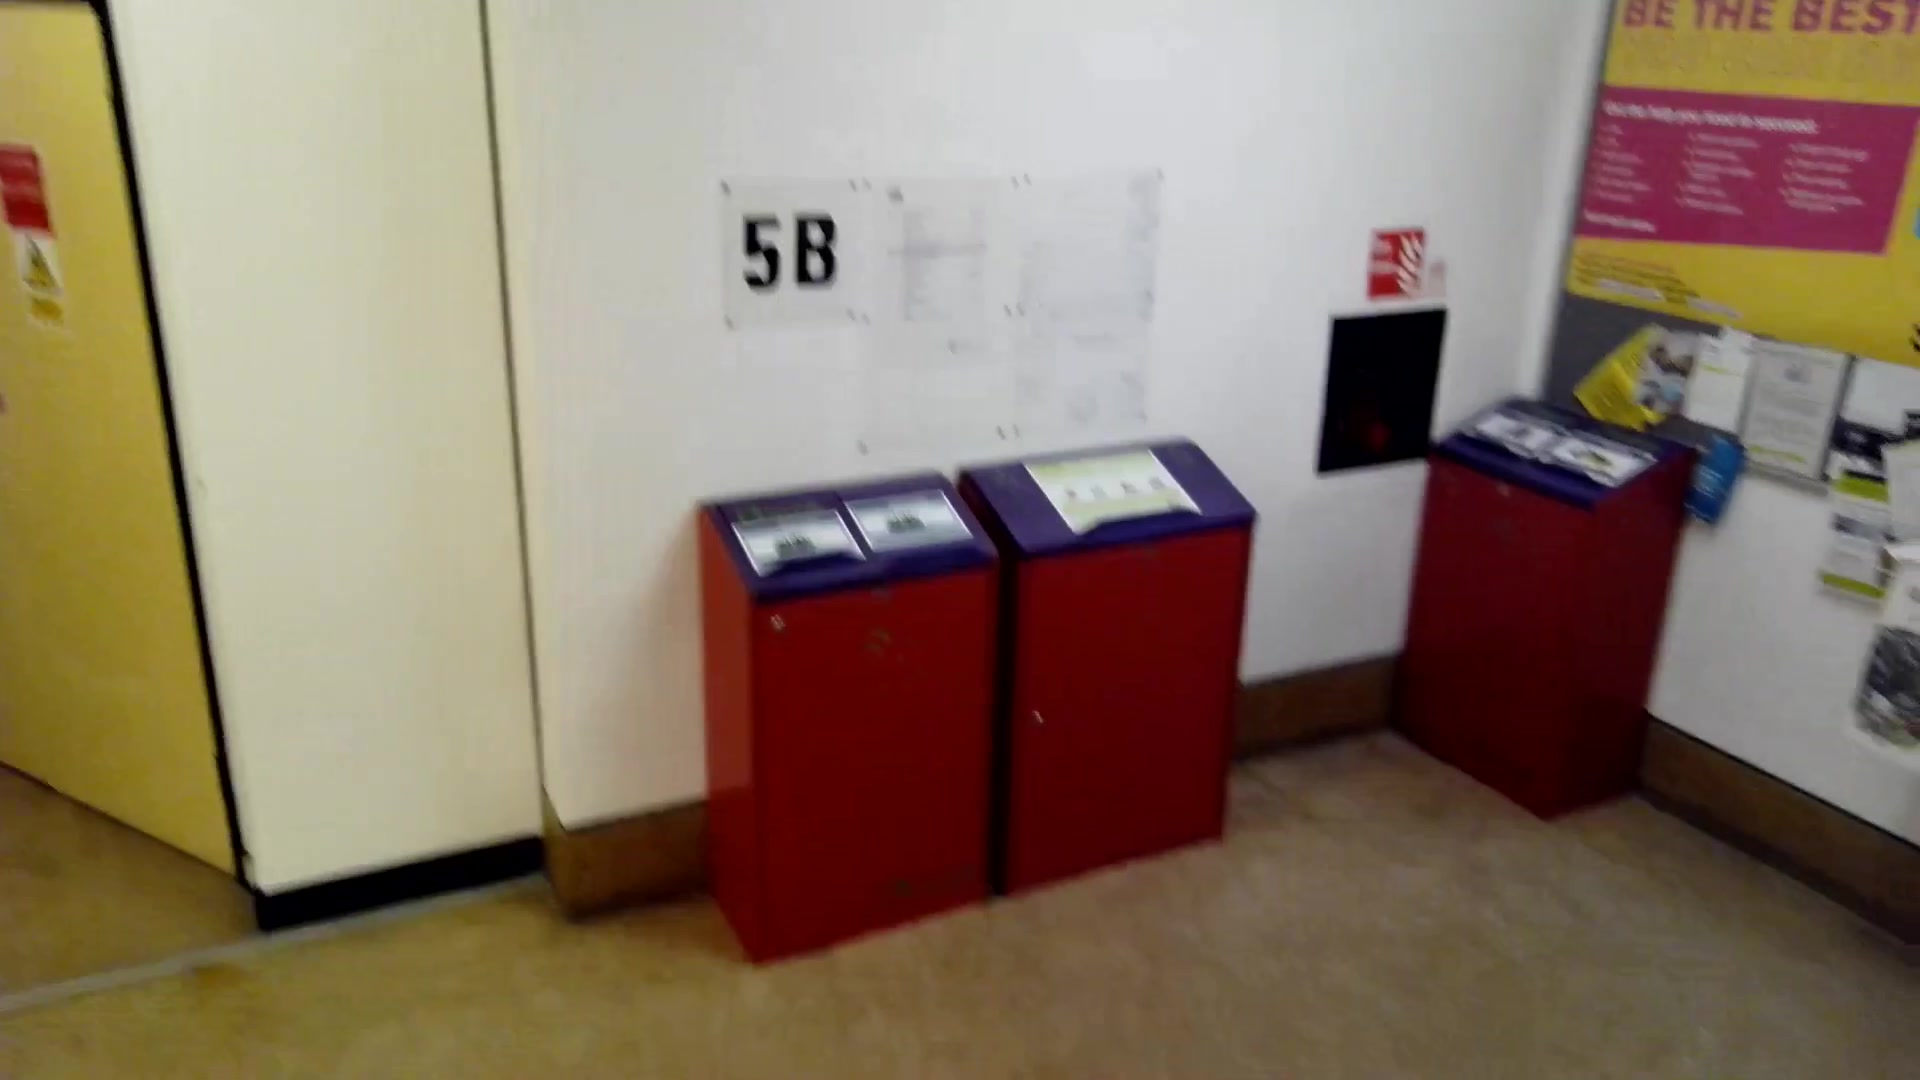Bin: (684, 469, 1004, 934), (977, 429, 1251, 914), (1422, 378, 1689, 823)
